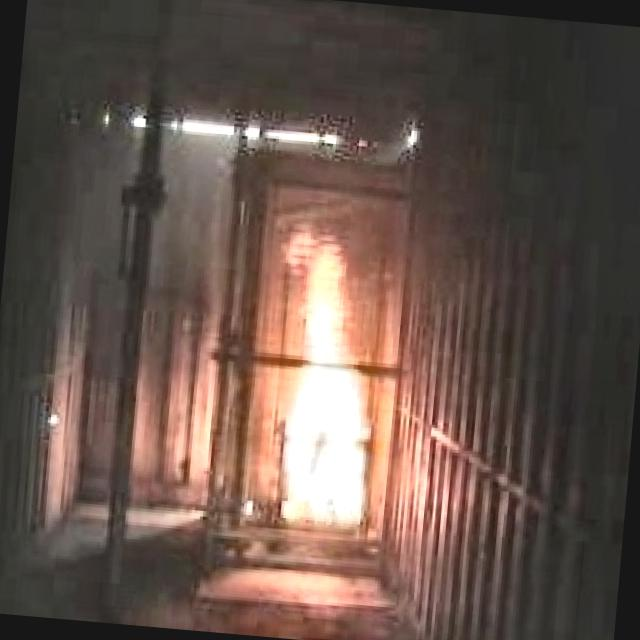fire: (247, 202, 418, 541)
